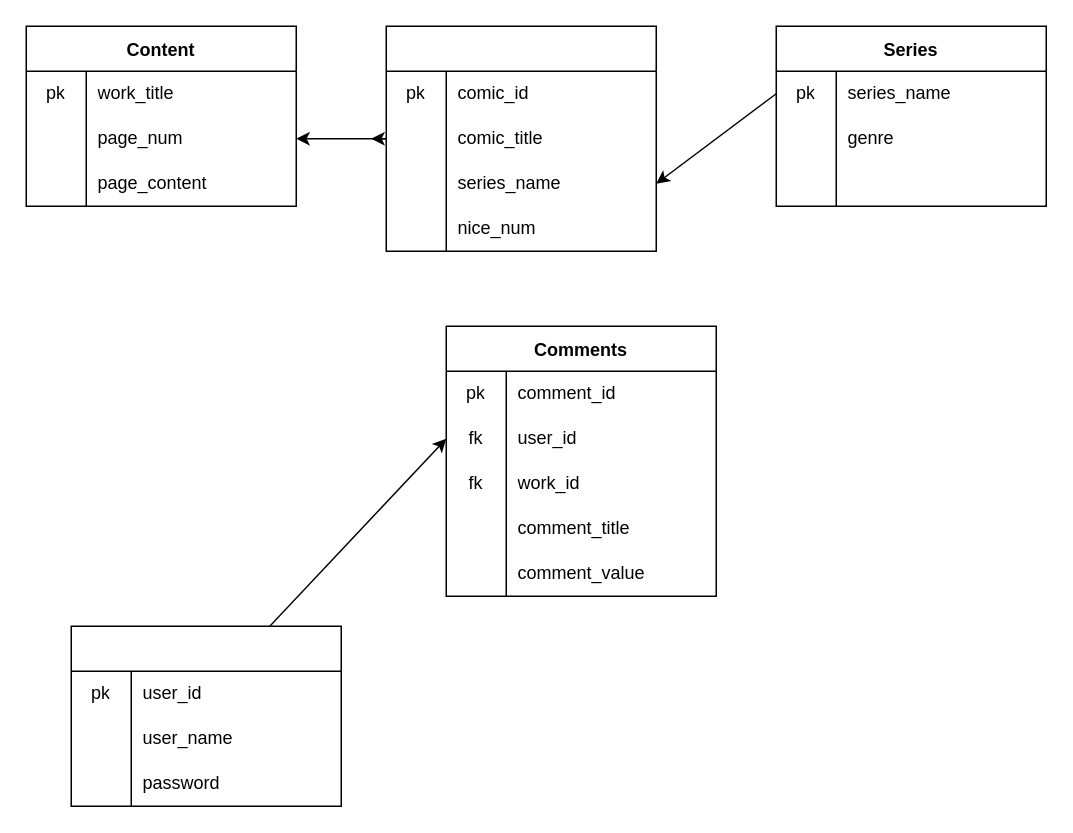
Image size: 1073x833. Some labels were removed from this diagram. The box of each missing label's shape, as (x1, y1, x2, y2) in pixels:
Comics: (385, 25, 656, 251)
Users: (70, 625, 341, 806)
